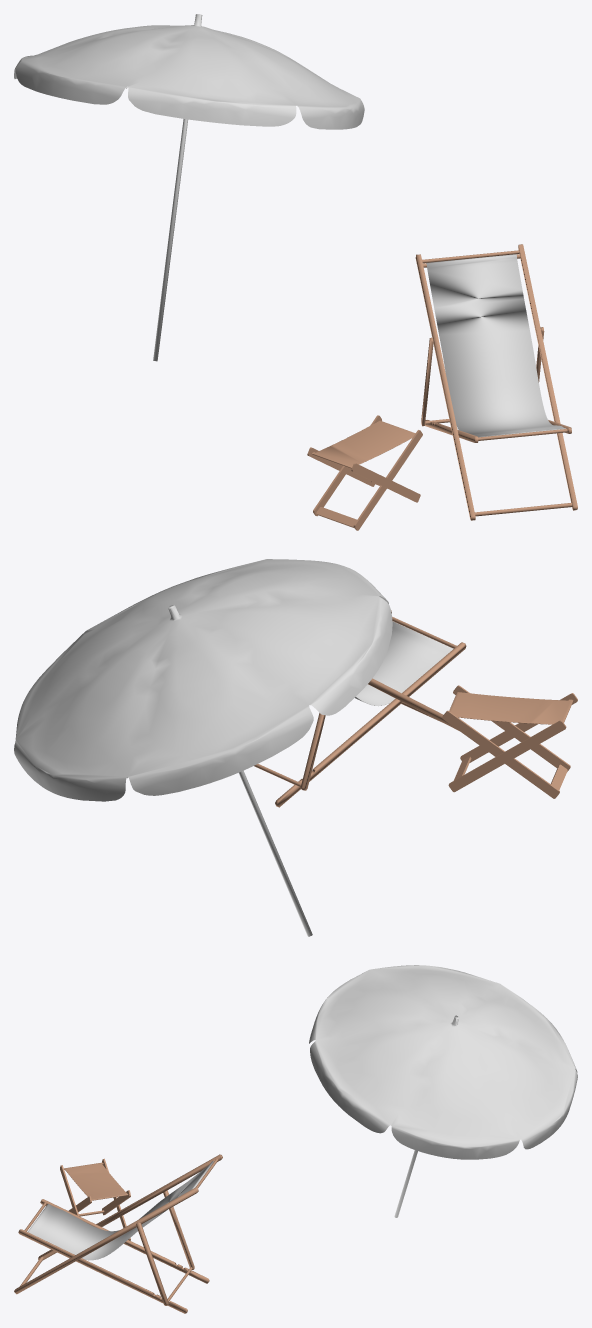
Rendered from beachChairB.glb.
3 views of the same model, one above another, from view 1: azimuth 30°, elevation 25°; view 2: azimuth 150°, elevation 25°; view 3: azimuth 270°, elevation 25° (orthographic). The views are drawn at different scales.
Visible parts, largest first — view 1: Circle.002, Plane.010, Plane.008, Plane.005, Plane.006, Cylinder.002; view 2: Circle.002, Plane.005, Plane.008, Plane.010, Plane.006, Cylinder.002; view 3: Circle.002, Plane.008, Plane.010, Plane.006, Plane.005.
Part boxes in pixels (bbox=[...]): Circle.002: bbox=[14, 14, 364, 129]; Plane.010: bbox=[426, 254, 565, 437]; Plane.008: bbox=[415, 244, 577, 520]; Plane.005: bbox=[307, 415, 422, 530]; Plane.006: bbox=[313, 420, 415, 468]; Cylinder.002: bbox=[126, 87, 187, 361]; Circle.002: bbox=[14, 559, 392, 801]; Plane.005: bbox=[442, 685, 577, 798]; Plane.008: bbox=[254, 610, 466, 807]; Plane.010: bbox=[355, 621, 452, 705]; Plane.006: bbox=[449, 692, 572, 724]; Cylinder.002: bbox=[127, 770, 312, 936]; Circle.002: bbox=[309, 965, 577, 1159]; Plane.008: bbox=[14, 1154, 222, 1313]; Plane.010: bbox=[28, 1161, 213, 1260]; Plane.006: bbox=[64, 1163, 127, 1200]; Plane.005: bbox=[60, 1158, 130, 1240].
Size of the model in its own units: 0.9739 by 0.9049 by 1.9.
